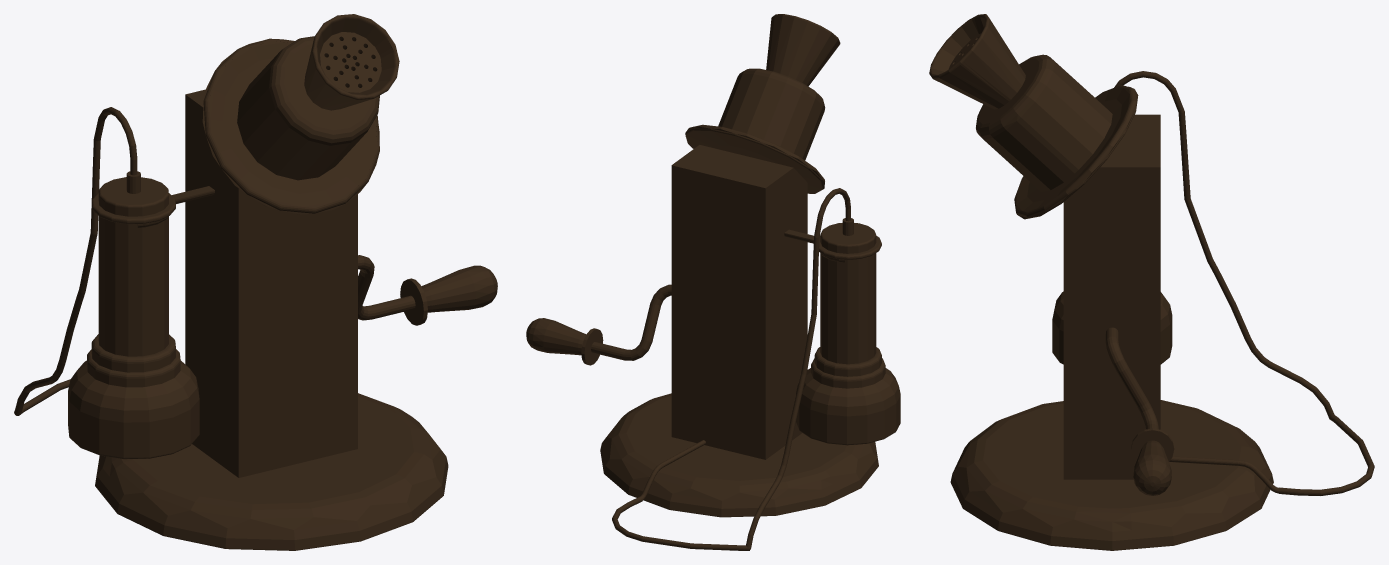
Rendered from 2_oldphone.fbx.
The picture shows the model from 3 angles, left to right: view 1: azimuth 30°, elevation 25°; view 2: azimuth 150°, elevation 25°; view 3: azimuth 270°, elevation 25°; orthographic projection. The views are drawn at different scales.
Visible parts, largest first — view 1: 2_Old_Telephone; view 2: 2_Old_Telephone; view 3: 2_Old_Telephone.
Part boxes in pixels (x1,y1,x2,y2): 2_Old_Telephone: (14,14,497,550); 2_Old_Telephone: (526,14,900,550); 2_Old_Telephone: (929,14,1374,550).
Bounding box in the file's own units: 8570 × 9514 × 8285.
